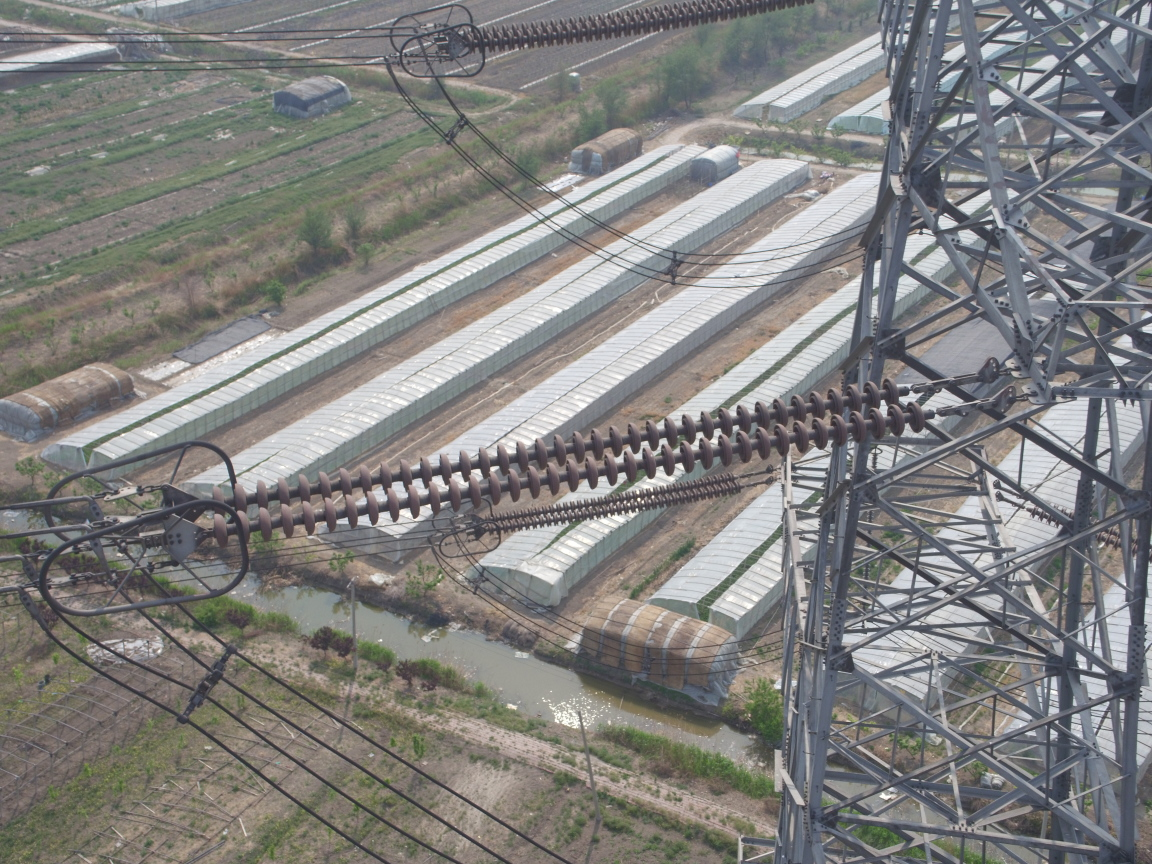insulator: (187, 374, 960, 560), (481, 467, 756, 537), (454, 1, 820, 53)
